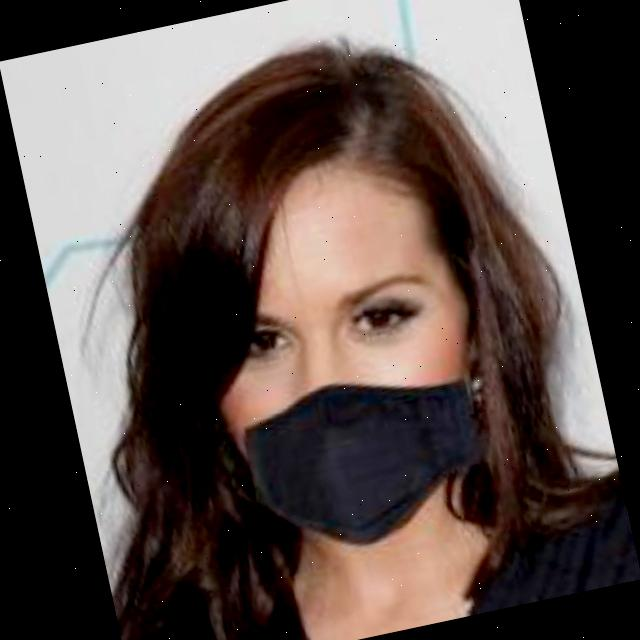suspicion: (174, 106, 532, 548)
